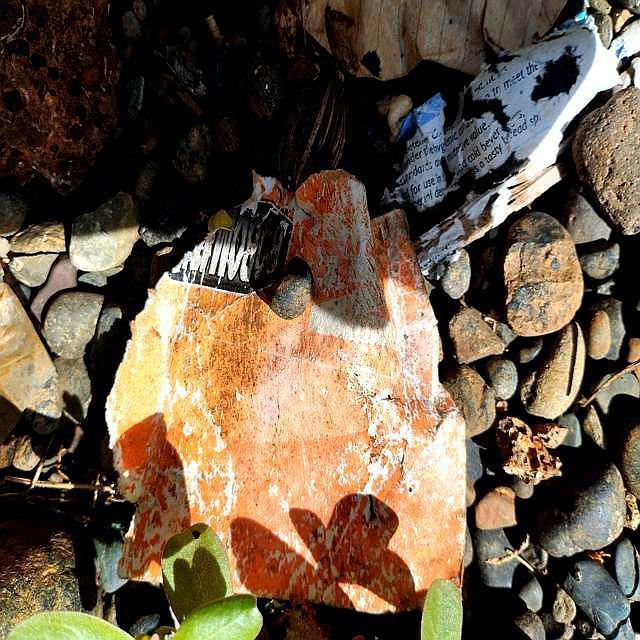Biodegradable: (107, 173, 465, 616)
